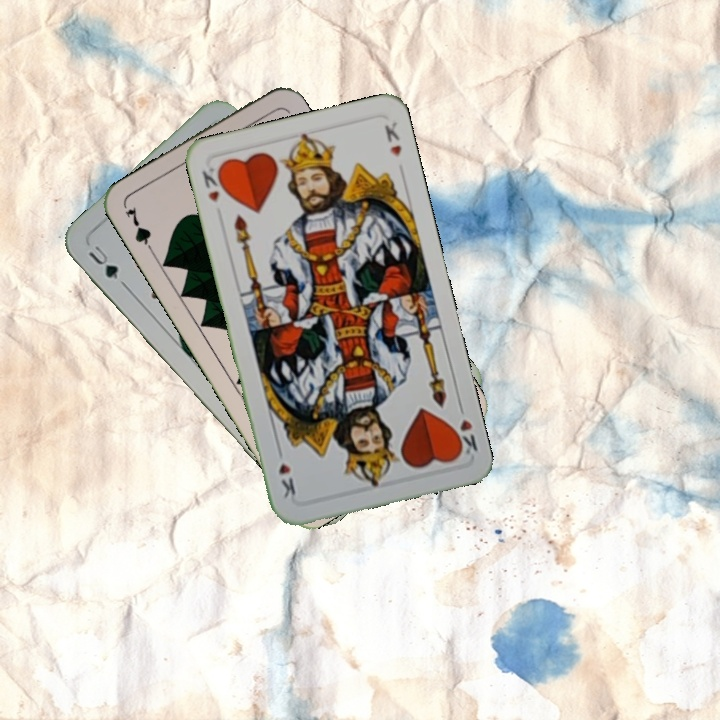G7: (120, 202, 158, 258)
GU: (84, 240, 121, 282)
HK: (448, 399, 481, 458), (198, 163, 222, 205)
